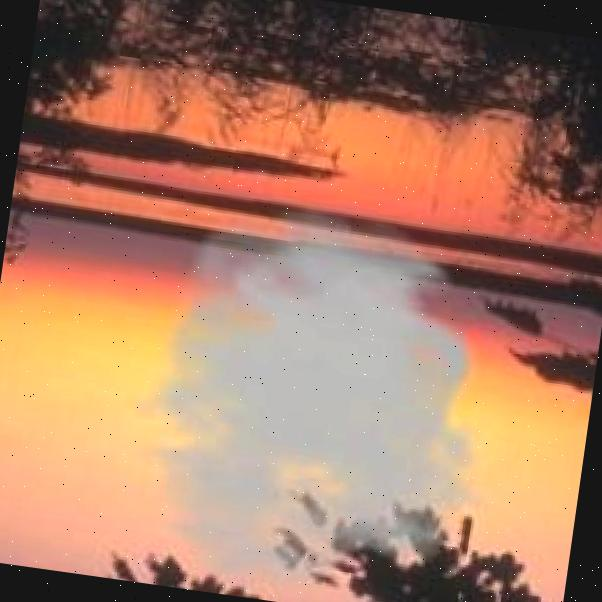smoke: (81, 182, 526, 602)
